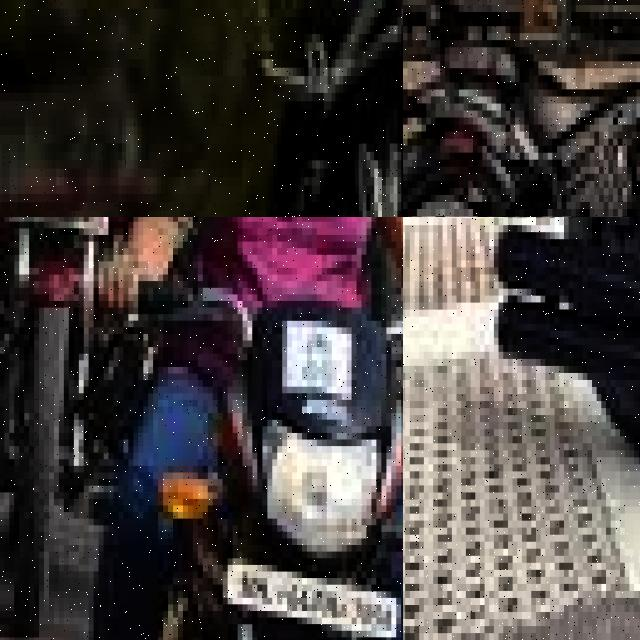bike: (113, 255, 403, 640), (0, 217, 163, 637), (498, 217, 640, 619), (403, 0, 640, 217), (238, 0, 403, 217)
